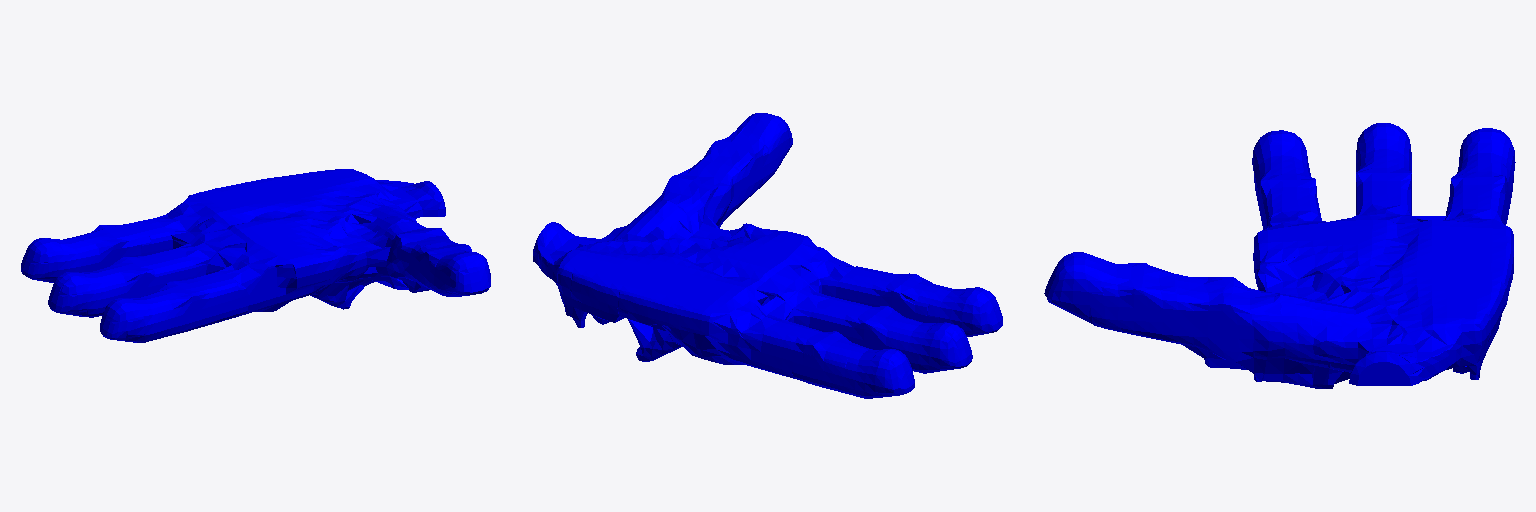
URDF robot description (SIM_L_WRIST):
<robot name="SIM_L_WRIST">
  <link name="SIM_I_WRIST_FOREARM">
    <inertial>
      <origin xyz="0.080013 0.00692386 -0.000122126" rpy="0 0 0"/>
      <mass value="0.847834"/>
      <inertia ixx="0.000642193" ixy="-5.50228e-05" ixz="8.43781e-06" iyy="0.000791101" iyz="6.75903e-07" izz="0.000848022"/>
    </inertial>
    <visual>
      <origin xyz="0 0 0" rpy="0 0 0"/>
      <geometry>
        <mesh filename="package://iCub/meshes/simmechanics/sim_i_wrist_forearm_prt.stl" scale="0.001 0.001 0.001"/>
      </geometry>
      <material name="green">
        <color rgba="0 1 0 1"/>
      </material>
    </visual>
    <collision>
      <origin xyz="0 0 0" rpy="0 0 0"/>
      <geometry>
        <mesh filename="package://iCub/meshes/simmechanics/sim_i_wrist_forearm_prt.stl" scale="0.001 0.001 0.001"/>
      </geometry>
    </collision>
  </link>
  <link name="SIM_I_WRIST_LEVERAGE">
    <inertial>
      <origin xyz="-0.2178613 -0.000276848 -0.000854" rpy="0 0 0"/>
      <mass value="0.0424441"/>
      <inertia ixx="1.35051e-05" ixy="-6.05726e-07" ixz="-1.32907e-06" iyy="1.47037e-05" iyz="-5.46701e-07" izz="1.67511e-05"/>
    </inertial>
    <visual>
      <origin xyz="-0.22890000000000002 0 0" rpy="0 0 0"/>
      <geometry>
        <mesh filename="package://iCub/meshes/simmechanics/sim_i_wrist_leverage_prt.stl" scale="0.001 0.001 0.001"/>
      </geometry>
      <material name="black">
        <color rgba="0 0 0 1"/>
      </material>
    </visual>
    <collision>
      <origin xyz="-0.22890000000000002 0 0" rpy="0 0 0"/>
      <geometry>
        <mesh filename="package://iCub/meshes/simmechanics/sim_i_wrist_leverage_prt.stl" scale="0.001 0.001 0.001"/>
      </geometry>
    </collision>
  </link>
  <joint name="l_wrist_prosup" type="revolute">
    <origin xyz="0.22890000000000002 0 0" rpy="0 0 0"/>
    <axis xyz="1.0 0.0 0.0"/>
    <parent link="SIM_I_WRIST_FOREARM"/>
    <child link="SIM_I_WRIST_LEVERAGE"/>
    <limit effort="50000" lower="-1.5707963267948966" upper="1.5707963267948966" velocity="50000"/>
    <dynamics damping="1.0"/>
  </joint>
  <link name="l_platform">
    <inertial>
      <origin xyz="-0.004509214837221243 -0.00012143109120533514 -0.002406867256157157" rpy="0 0 0"/>
      <mass value="0.00610347"/>
      <inertia ixx="0.01" ixy="2.0761e-09" ixz="-3.6146e-09" iyy="0.01" iyz="1.01098e-09" izz="0.01"/>
    </inertial>
    <visual>
      <origin xyz="0.010450000000000004 0 0" rpy="0 0 0"/>
      <geometry>
        <mesh filename="package://iCub/meshes/simmechanics/sim_l_wrist_platform_prt.stl" scale="0.001 0.001 0.001"/>
      </geometry>
      <material name="red">
        <color rgba="1 0 0 1"/>
      </material>
    </visual>
    <collision>
      <origin xyz="0.010450000000000004 0 0" rpy="0 0 0"/>
      <geometry>
        <mesh filename="package://iCub/meshes/simmechanics/sim_l_wrist_platform_prt.stl" scale="0.001 0.001 0.001"/>
      </geometry>
    </collision>
  </link>
  <joint name="l_wrist_pitch" type="revolute">
    <origin xyz="-0.23935 0 0" rpy="-6.2349118285911565e-06 -7.429468190675887e-06 -2.508157683764559e-05"/>
    <axis xyz="2.5081576834323626e-05 -0.999999999666019 -6.235098169366874e-06"/>
    <parent link="SIM_I_WRIST_LEVERAGE"/>
    <child link="l_platform"/>
    <limit effort="50000" lower="-1.0471975511965976" upper="0.8726646259971648" velocity="50000"/>
    <dynamics damping="1.0"/>
  </joint>
  <link name="SIM_L_WRIST_HAND">
    <inertial>
      <origin xyz="0.07466359999971112 -0.006066090003458604 -0.0015653900003557914" rpy="0 0 0"/>
      <mass value="0.247727"/>
      <inertia ixx="0.000180927" ixy="-5.62305e-05" ixz="-1.397e-05" iyy="0.000326195" iyz="-6.04989e-06" izz="0.000486092"/>
    </inertial>
    <visual>
      <origin xyz="0.08899999999996983 0 -0.0060000000004278" rpy="0 0 0"/>
      <geometry>
        <mesh filename="package://iCub/meshes/simmechanics/sim_l_wrist_hand_prt.stl" scale="0.001 0.001 0.001"/>
      </geometry>
      <material name="blue">
        <color rgba="0 0 1 1"/>
      </material>
    </visual>
    <collision>
      <origin xyz="0.08899999999996983 0 -0.0060000000004278" rpy="0 0 0"/>
      <geometry>
        <mesh filename="package://iCub/meshes/simmechanics/sim_l_wrist_hand_prt.stl" scale="0.001 0.001 0.001"/>
      </geometry>
    </collision>
  </link>
  <joint name="l_wrist_yaw" type="revolute">
    <origin xyz="0 0 0" rpy="3.141586418491624 -7.429306784133327e-06 -3.141567572012956"/>
    <axis xyz="5.022929999999999e-12 -1.1633733746249997e-22 0.9999999999999996"/>
    <parent link="l_platform"/>
    <child link="SIM_L_WRIST_HAND"/>
    <limit effort="50000" lower="-0.5235987755982988" upper="0.5235987755982988" velocity="50000"/>
    <dynamics damping="1.0"/>
  </joint>
  <gazebo> <plugin name="controlboard_wrist" filename="libgazebo_yarp_controlboard.so"> <yarpConfigurationFile>model://iCub/conf_left_wrist_mk2/left_wrist.ini</yarpConfigurationFile> </plugin> <plugin name="world_interface" filename="libgazebo_yarp_worldinterface.so"> <yarpConfigurationFile>model://iCub/conf_left_wrist_mk2/worldInterface.ini</yarpConfigurationFile> </plugin> </gazebo>
  <gazebo>
    <pose>0.0 0.0 0.0 0.0 0.0 0.0</pose>
  </gazebo>
</robot>

--- What the picture shows (computed from the rendered views, not written in the file) ---
Views: 3 orthographic renders of the robot side by side, from view 1: azimuth 30°, elevation 25°; view 2: azimuth 150°, elevation 25°; view 3: azimuth 270°, elevation 25°.
Robot: SIM_L_WRIST — 4 links, 3 joints (3 revolute); root link SIM_I_WRIST_FOREARM; default pose: all joints at 0.
Links seen in each view (by area): view 1: SIM_L_WRIST_HAND; view 2: SIM_L_WRIST_HAND; view 3: SIM_L_WRIST_HAND.
Link boxes in pixels (left/top/right/bottom): SIM_L_WRIST_HAND: left=21, top=169, right=490, bottom=342; SIM_L_WRIST_HAND: left=533, top=113, right=1002, bottom=398; SIM_L_WRIST_HAND: left=1044, top=123, right=1515, bottom=388.
Size in the robot's own frame: 0.1666 by 0.1344 by 0.0459 metres.
Meshes: 4 distinct files referenced, 1 mesh visuals loaded (1 binary STL); not drawn: 3 (reference not matched to a file when rendering).